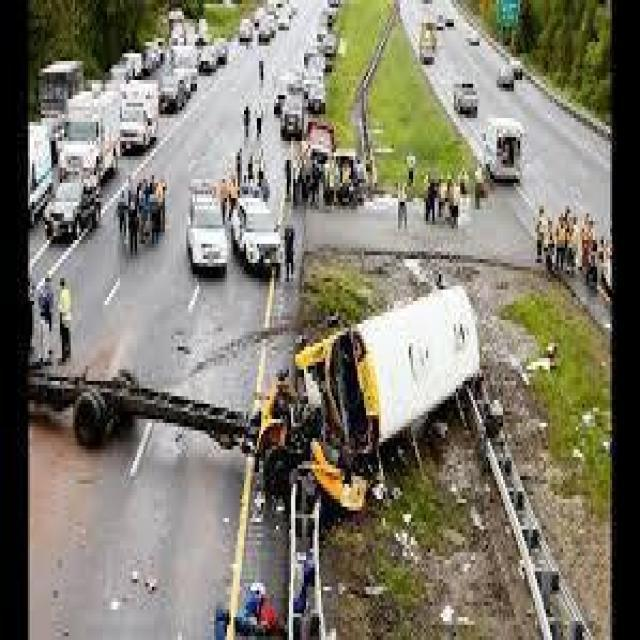multiple_accident: (247, 273, 520, 492)
